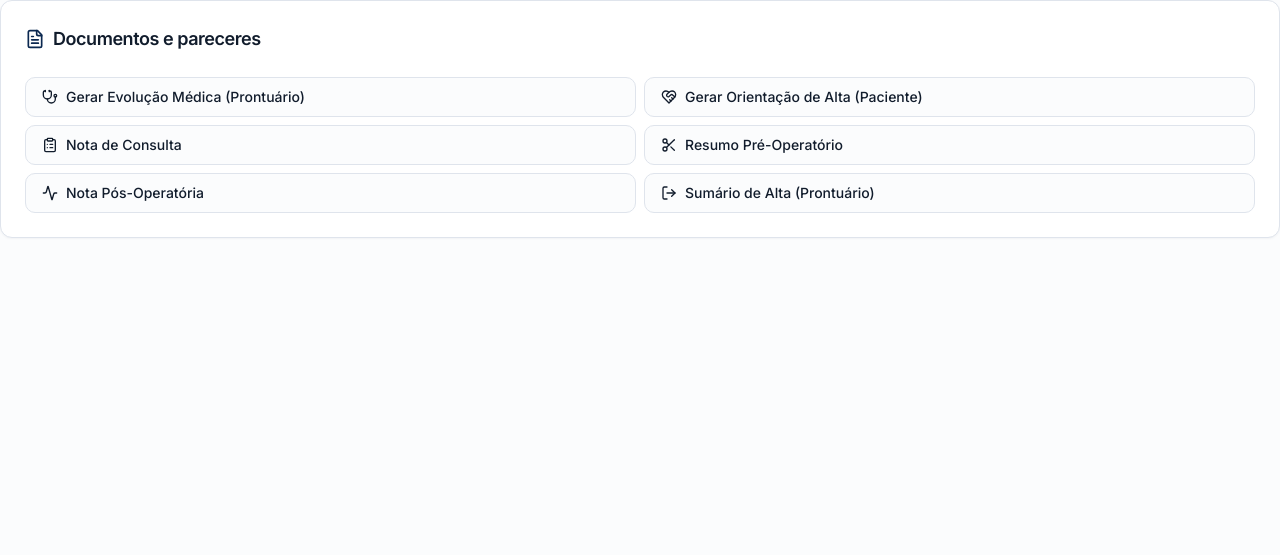
DocumentGenerator › uma resposta sem `sources` não vira alarme nem vira silêncio enganoso
The image size is (1280, 555).
Step 1. Click the button "Nota de Consulta" → {"x": 124, "y": 144}, box [25, 125, 636, 165]
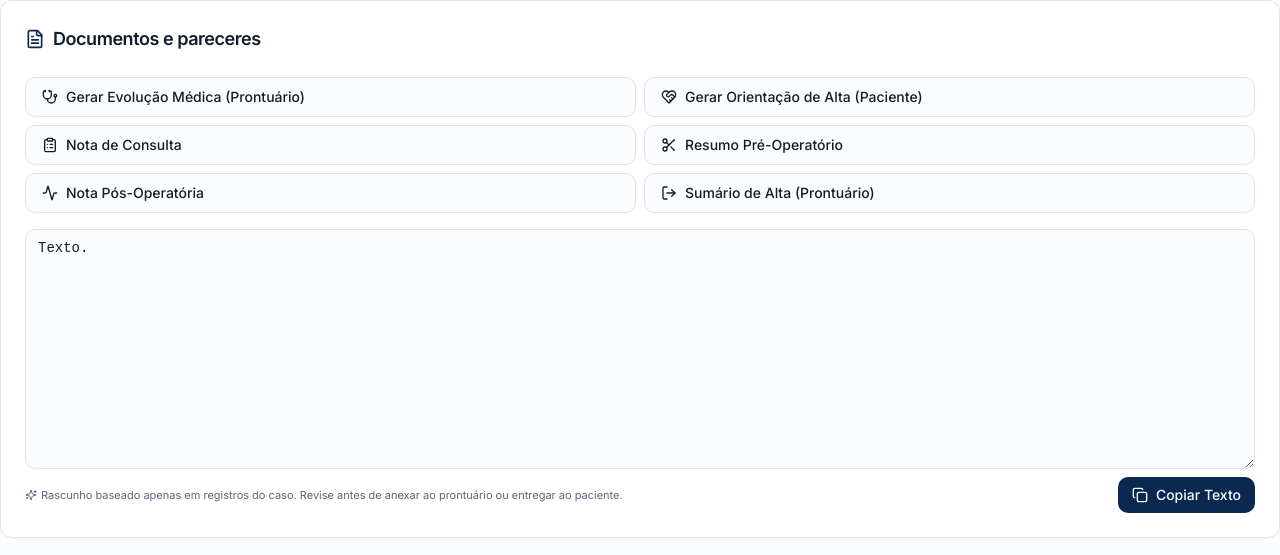
Result: the text box named "editável" holds "Texto." at [25, 229, 1255, 469]
Result: the text "Revise antes de anexar ao prontuário" is shown at [41, 488, 623, 502]
